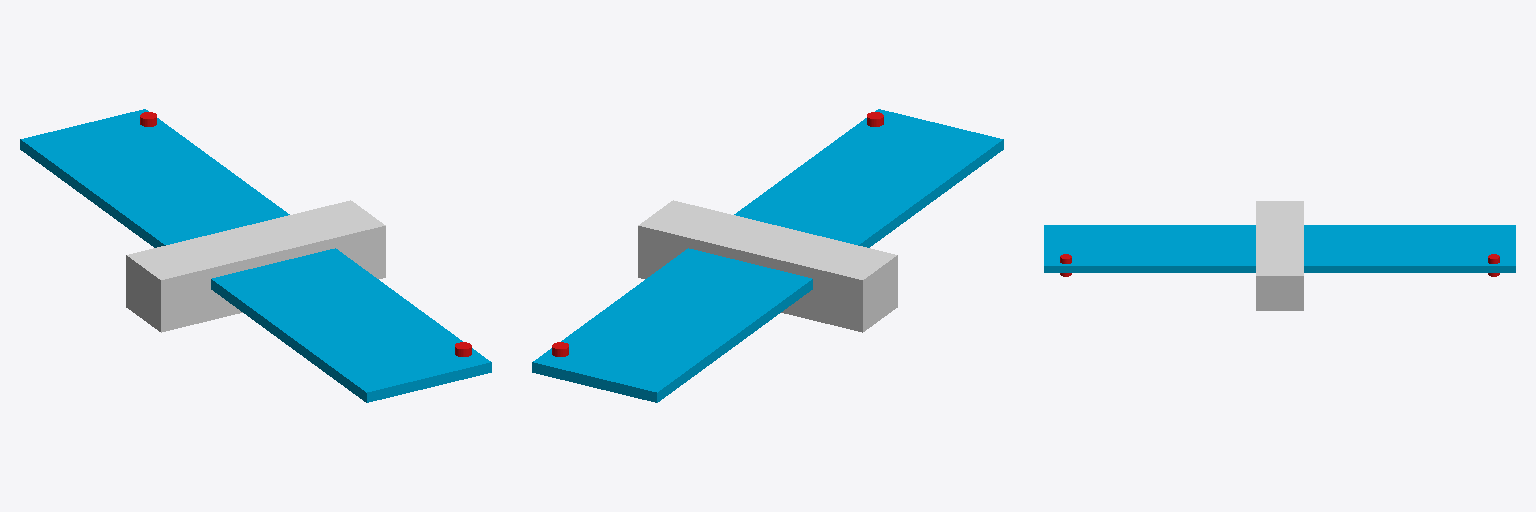
The robot description file, URDF, robot "test_vtol_unit":
<?xml version="1.0"?>
<robot name="test_vtol_unit">
  <!-- Main Fuselage Body -->
  <link name="base_link">
    <inertial>
      <mass value="0.3350"/>
      <inertia ixx="0.000681" ixy="0" ixz="0" iyy="0.005932" iyz="0" izz="0.006055"/>
    </inertial>
    <visual>
      <geometry>
        <box size="0.45 0.12 0.10"/>
      </geometry>
      <material name="white"><color rgba="0.9 0.9 0.9 1.0"/></material>
    </visual>
    <collision>
      <geometry><box size="0.45 0.12 0.10"/></geometry>
    </collision>
  </link>
  <!-- Main Aerodynamic Wings -->
  <link name="main_wing">
    <inertial>
      <mass value="0.0540"/>
      <inertia ixx="0.005" ixy="0" ixz="0" iyy="0.001" iyz="0" izz="0.006"/>
    </inertial>
    <visual>
      <geometry>
        <box size="0.250 1.200 0.02"/>
      </geometry>
      <material name="cyan"><color rgba="0.0 0.7 0.9 1.0"/></material>
    </visual>
  </link>
  <joint name="joint_fuselage_wing" type="fixed">
    <parent link="base_link"/>
    <child link="main_wing"/>
    <origin xyz="0.0 0.0 0.02" rpy="0 0 0"/>
  </joint>
  <!-- Tilt Servo Motor Mount 0 -->
  <link name="tilt_servo_0">
    <inertial>
      <mass value="0.06"/>
      <inertia ixx="0.0001" ixy="0" ixz="0" iyy="0.0001" iyz="0" izz="0.0001"/>
    </inertial>
    <visual>
      <geometry><cylinder length="0.05" radius="0.015"/></geometry>
      <material name="red"><color rgba="0.9 0.1 0.1 1.0"/></material>
    </visual>
  </link>
  <joint name="joint_tilt_0" type="revolute">
    <parent link="main_wing"/>
    <child link="tilt_servo_0"/>
    <origin xyz="0.10 0.545 0.0" rpy="0 0 0"/>
    <axis xyz="0 1 0"/>
    <limit lower="0.0" upper="1.5708" effort="2.0" velocity="3.0"/>
  </joint>
  <!-- Tilt Servo Motor Mount 1 -->
  <link name="tilt_servo_1">
    <inertial>
      <mass value="0.06"/>
      <inertia ixx="0.0001" ixy="0" ixz="0" iyy="0.0001" iyz="0" izz="0.0001"/>
    </inertial>
    <visual>
      <geometry><cylinder length="0.05" radius="0.015"/></geometry>
      <material name="red"><color rgba="0.9 0.1 0.1 1.0"/></material>
    </visual>
  </link>
  <joint name="joint_tilt_1" type="revolute">
    <parent link="main_wing"/>
    <child link="tilt_servo_1"/>
    <origin xyz="0.10 -0.545 0.0" rpy="0 0 0"/>
    <axis xyz="0 1 0"/>
    <limit lower="0.0" upper="1.5708" effort="2.0" velocity="3.0"/>
  </joint>
</robot>

--- What the picture shows (computed from the rendered views, not written in the file) ---
3 views of the same robot in one strip: view 1: azimuth 30°, elevation 25°; view 2: azimuth 150°, elevation 25°; view 3: azimuth 270°, elevation 25° (orthographic).
Model test_vtol_unit with 4 links and 3 joints (2 revolute, 1 fixed), rooted at base_link, posed every joint at zero.
Visible links, largest first — view 1: main_wing, base_link; view 2: main_wing, base_link; view 3: main_wing, base_link.
Link boxes in pixels (bbox=[...]): main_wing: bbox=[20, 109, 491, 402]; base_link: bbox=[126, 200, 385, 332]; main_wing: bbox=[532, 109, 1003, 402]; base_link: bbox=[638, 200, 897, 332]; main_wing: bbox=[1044, 225, 1515, 272]; base_link: bbox=[1256, 201, 1303, 310].
Size in the robot's own frame: 0.45 by 1.2 by 0.1 metres.
Geometry: primitives only (box / cylinder / sphere), no mesh files.
